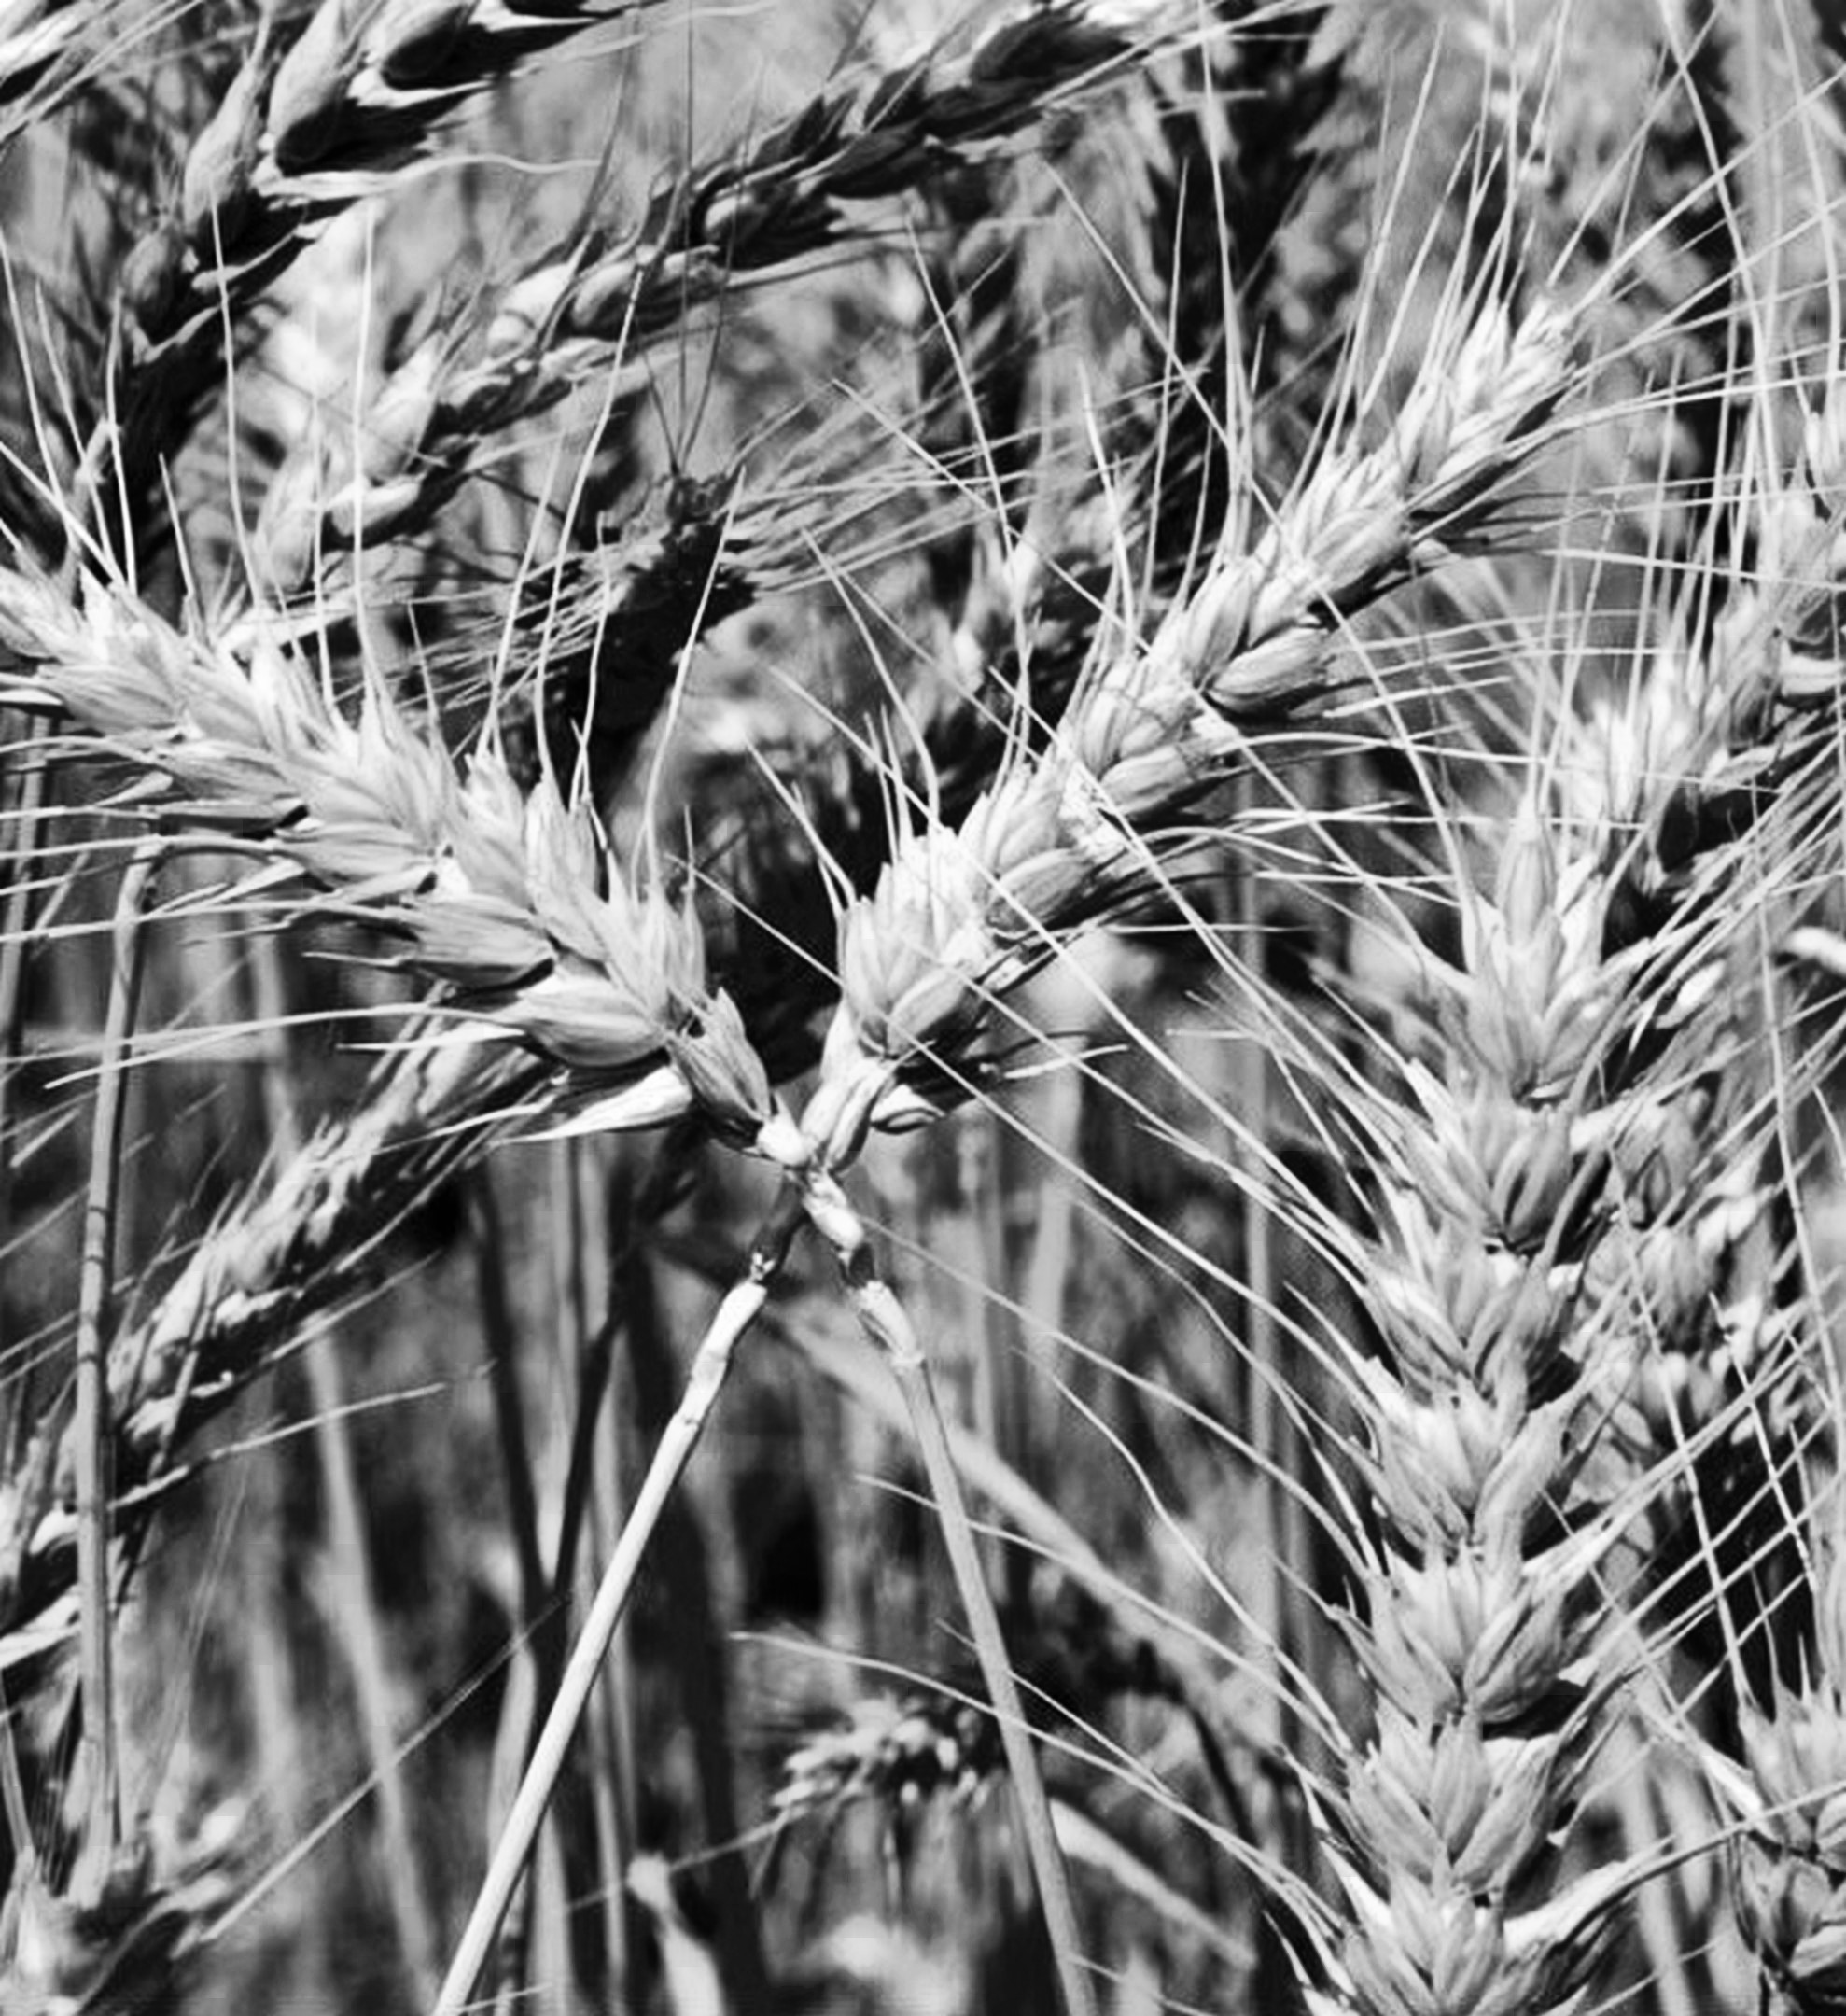Healthy Wheat: (829, 277, 1584, 1047), (12, 555, 724, 1119)
